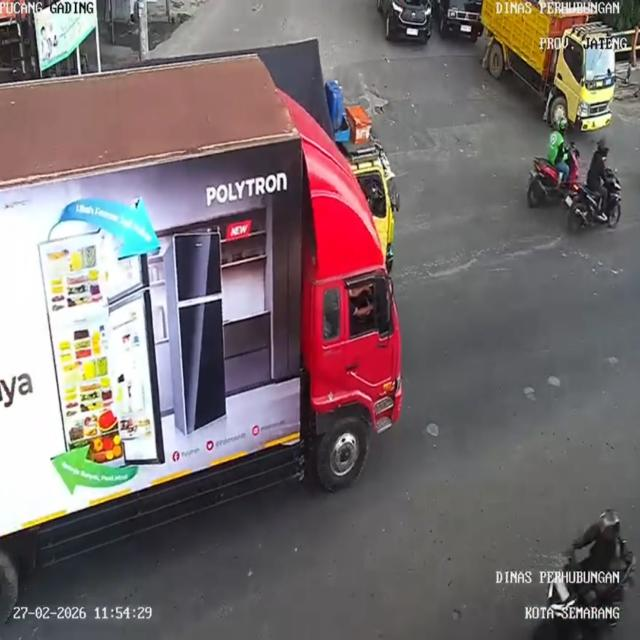motorcycle: (570, 177, 624, 236), (524, 154, 580, 208)
person: (580, 508, 629, 579), (587, 140, 613, 197), (548, 119, 570, 170)
rider_region: (572, 137, 627, 234), (522, 117, 580, 204)
